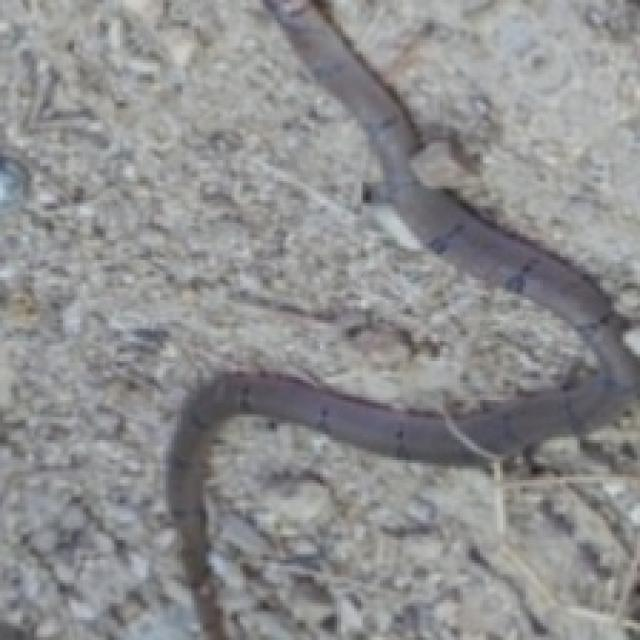northern short-headed snake: (166, 0, 637, 637)
